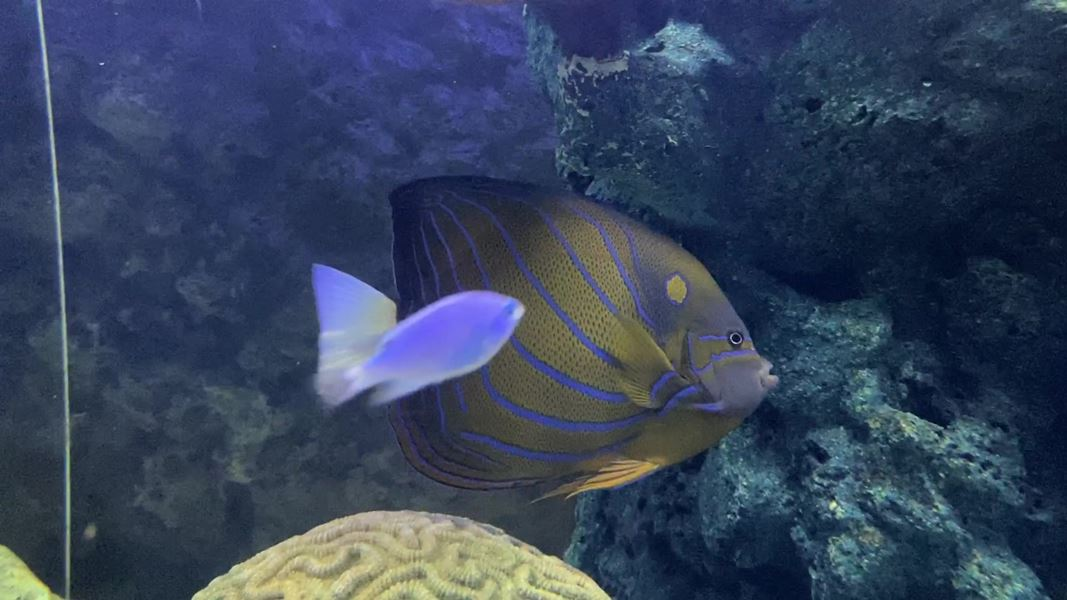Blue ring angelfish: (286, 173, 816, 520)
